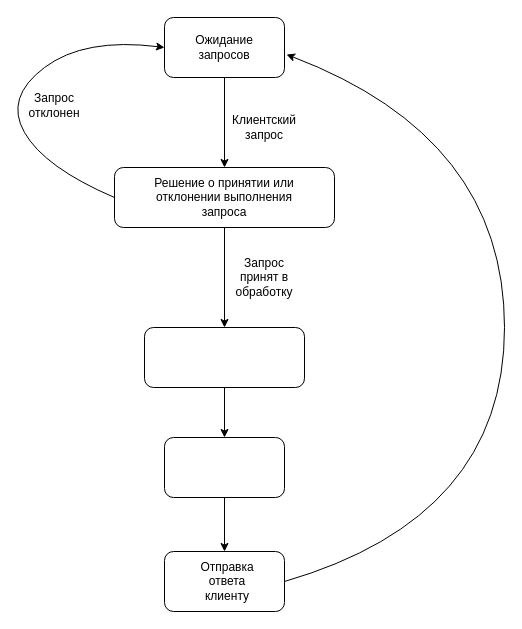
Some shapes in this 522 by 629 pixel diagram are drawn without their labels. The shapes that lost their labels are listed below. From the top down, each one's centre as x and y in pixels, then its label:
At point 224,357: "Обращение к базе данных".
At point 224,467: "Выполнение запроса".
